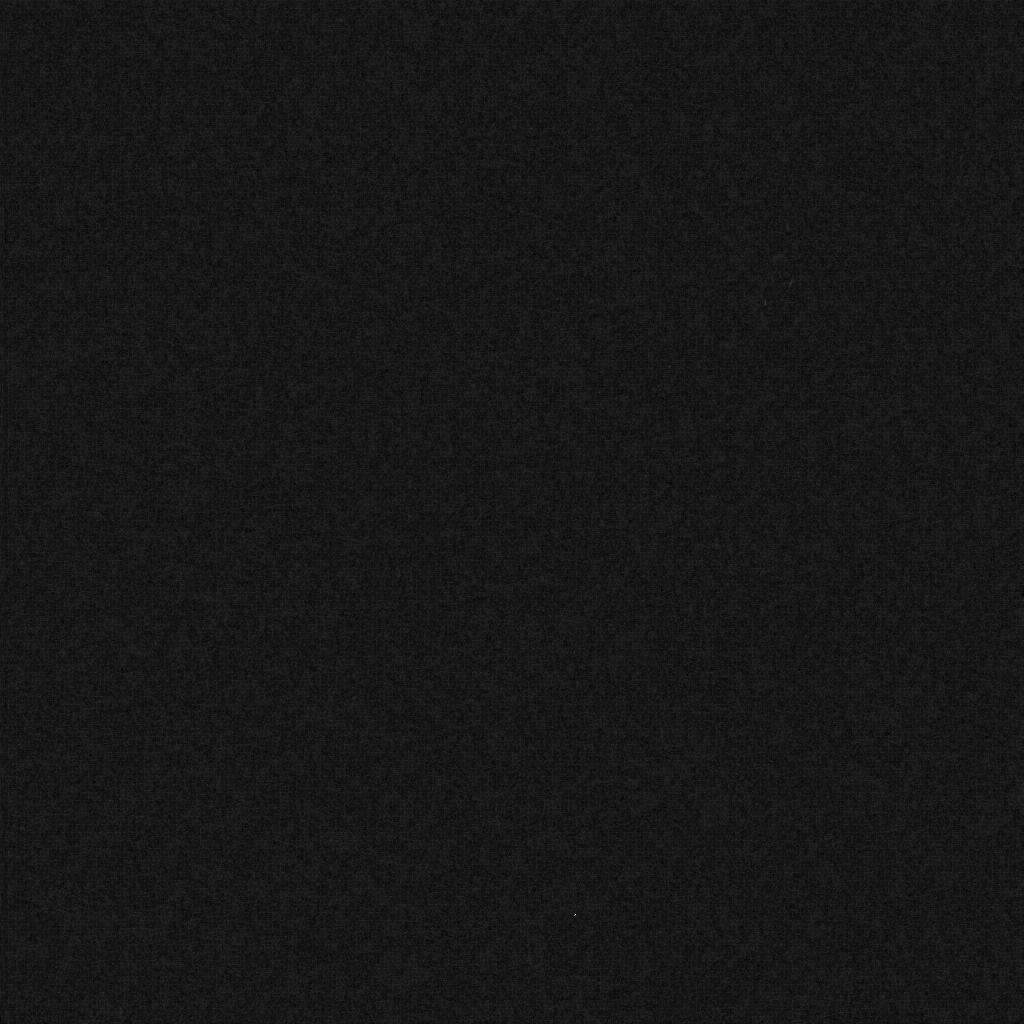Positive: (563, 899, 589, 928)
